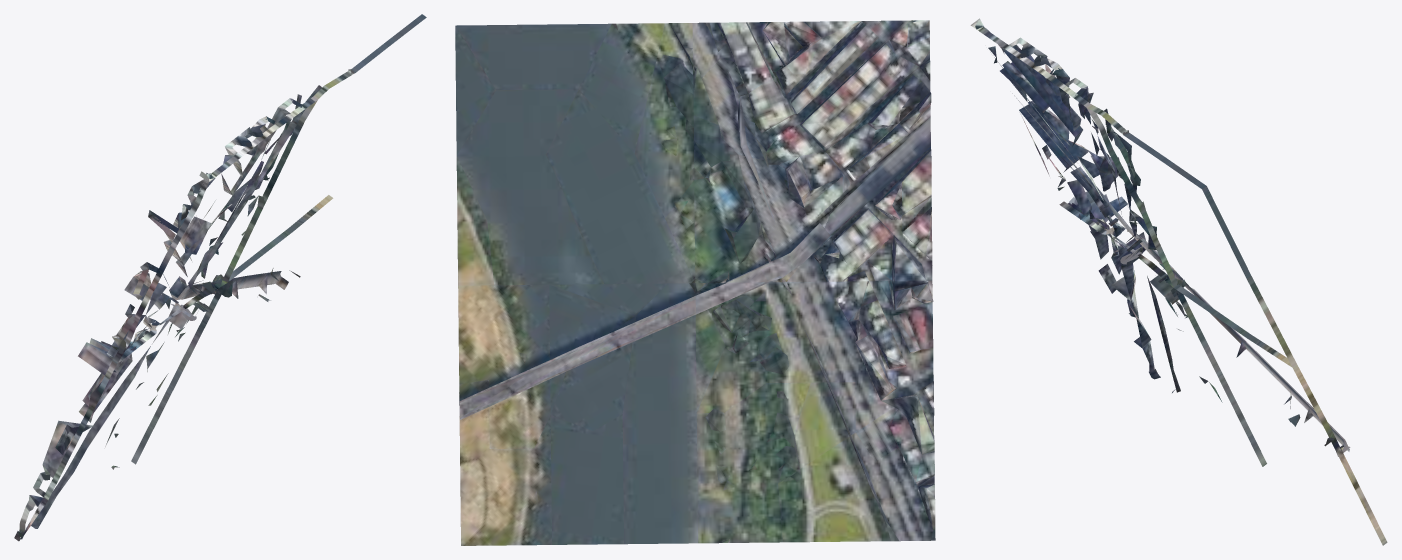
3 renders of one model, left to right at view 1: azimuth 30°, elevation 25°; view 2: azimuth 150°, elevation 25°; view 3: azimuth 270°, elevation 25°, orthographic. The views are drawn at different scales.
Bounding box in the file's own units: 622 × 567 × 515.
Materials: 1 (1 with a texture image).
